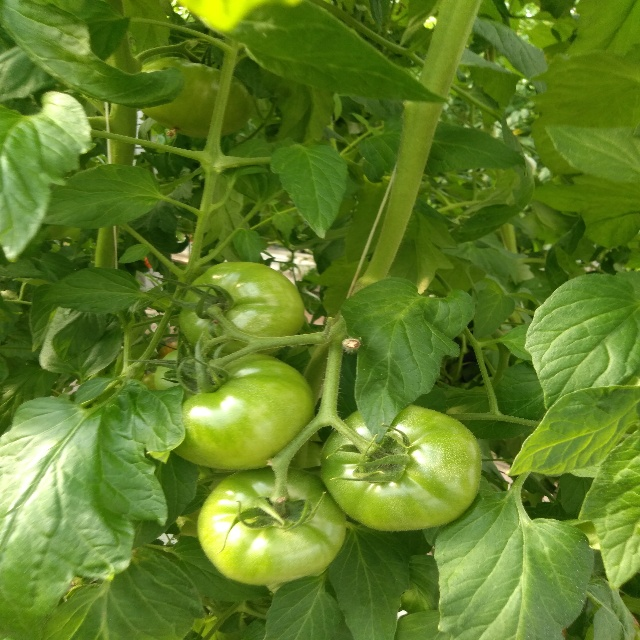b_green: (321, 402, 483, 532), (197, 465, 348, 587), (166, 353, 315, 470), (178, 261, 305, 359), (137, 57, 253, 139)
